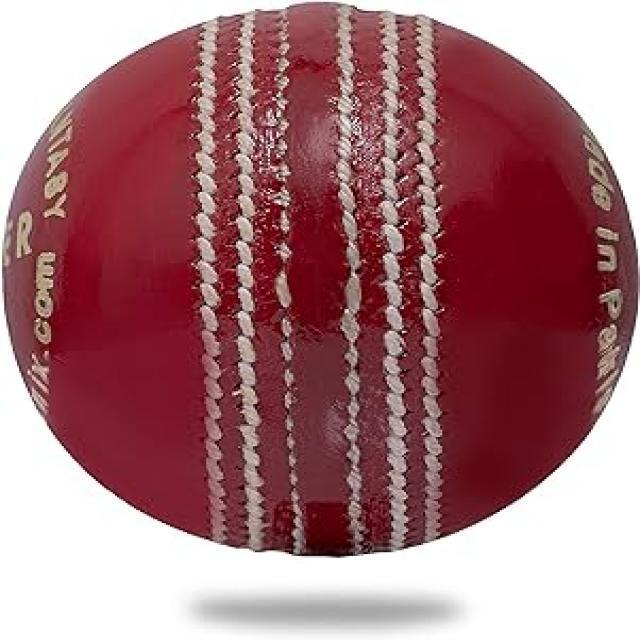cricket ball: (0, 1, 638, 557)
